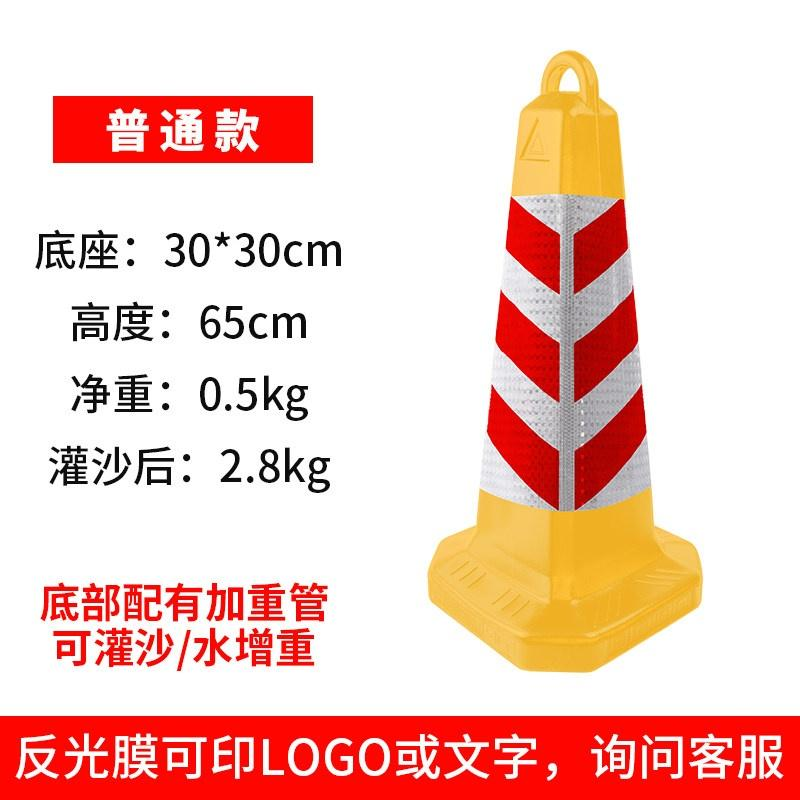cone_barrel: (422, 46, 705, 675)
